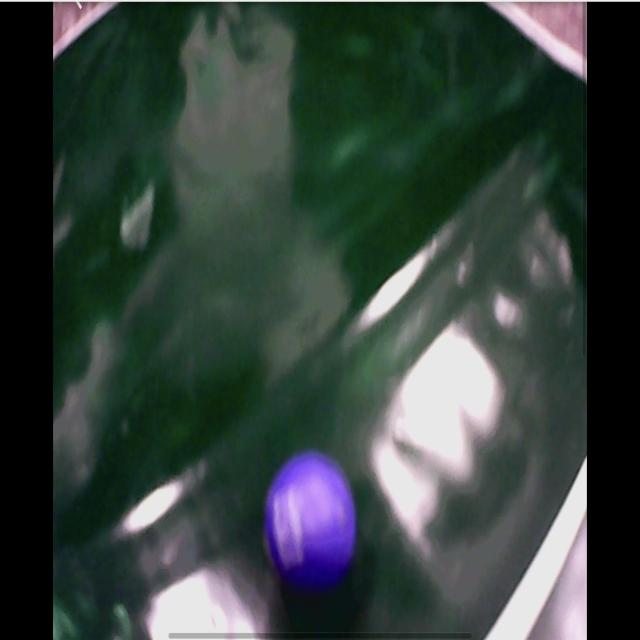ball: (265, 453, 355, 584)
